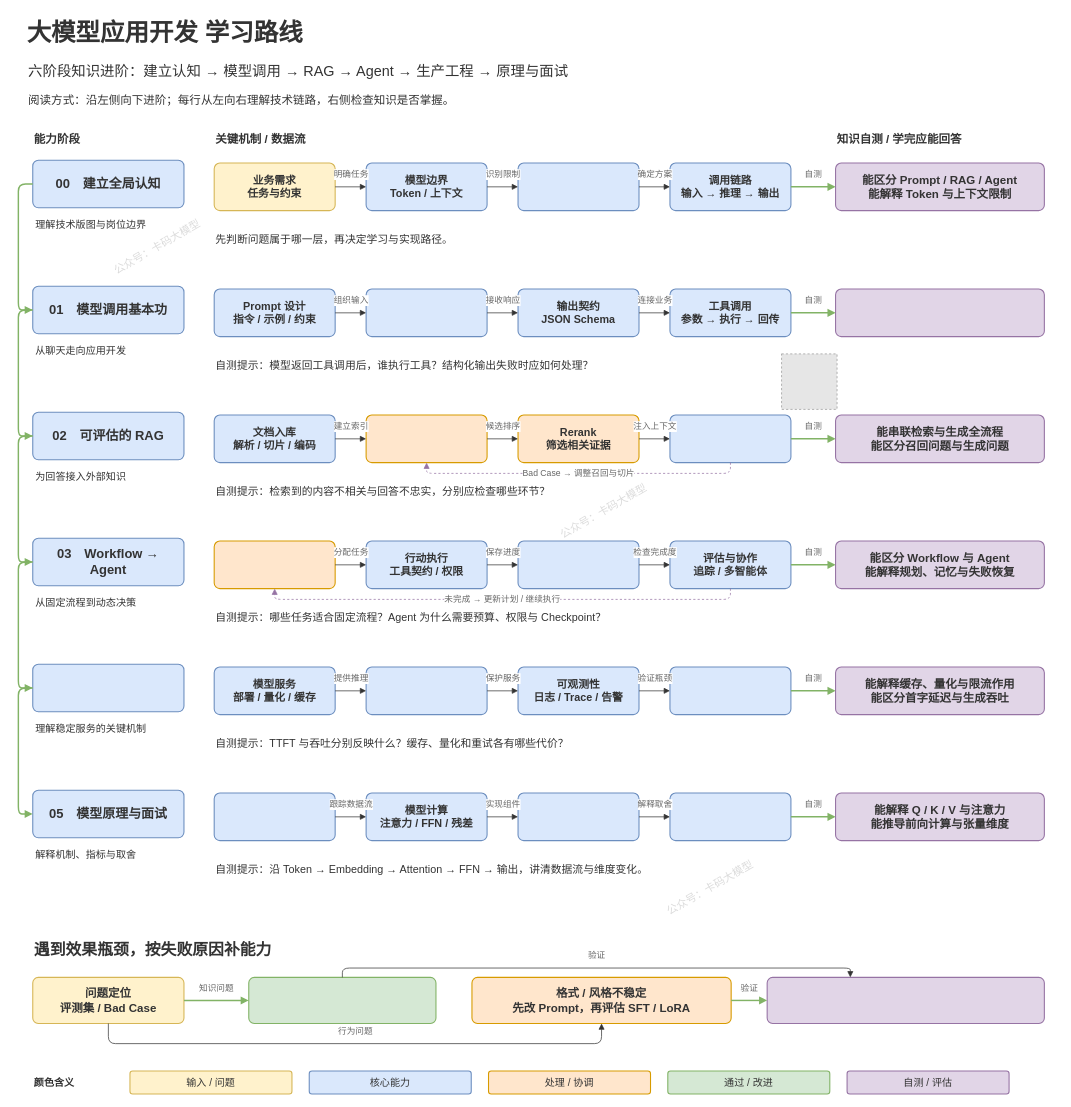
Some shapes in this 1071 by 1107 pixel diagram are drawn without their labels. Grey dashed boxes stand in for pictures. Here are the shapes that lost their labels. From the top down, the centre of each, then its label:
(578,186): 方案选择 调用 / 检索 / 行动
(426,312): API 接入 流式 / 超时 / 重试
(940,312): 能讲清一次 API 调用链路 能解释结构化输出与工具调用
(426,438): 混合召回 关键词 + 向量检索
(730,438): 引用生成 证据 → 回答 → 来源
(274,564): 任务规划 分解目标 / 预算
(578,564): 状态与记忆 Checkpoint / 恢复
(108,687): 04 生产工程能力
(426,690): 流量治理 限流 / 超时 / 重试
(730,690): 容量验证 压测 / 灰度 / 回滚
(274,816): Transformer 嵌入 / Q · K · V
(578,816): 最小实现 前向计算 / 训练验证
(730,816): 原理复述 机制 / 维度 / 取舍
(342,1000): 缺少事实知识 改进 RAG 与数据
(905,1000): 质量仍未达标 回到评测，验证收益与成本
